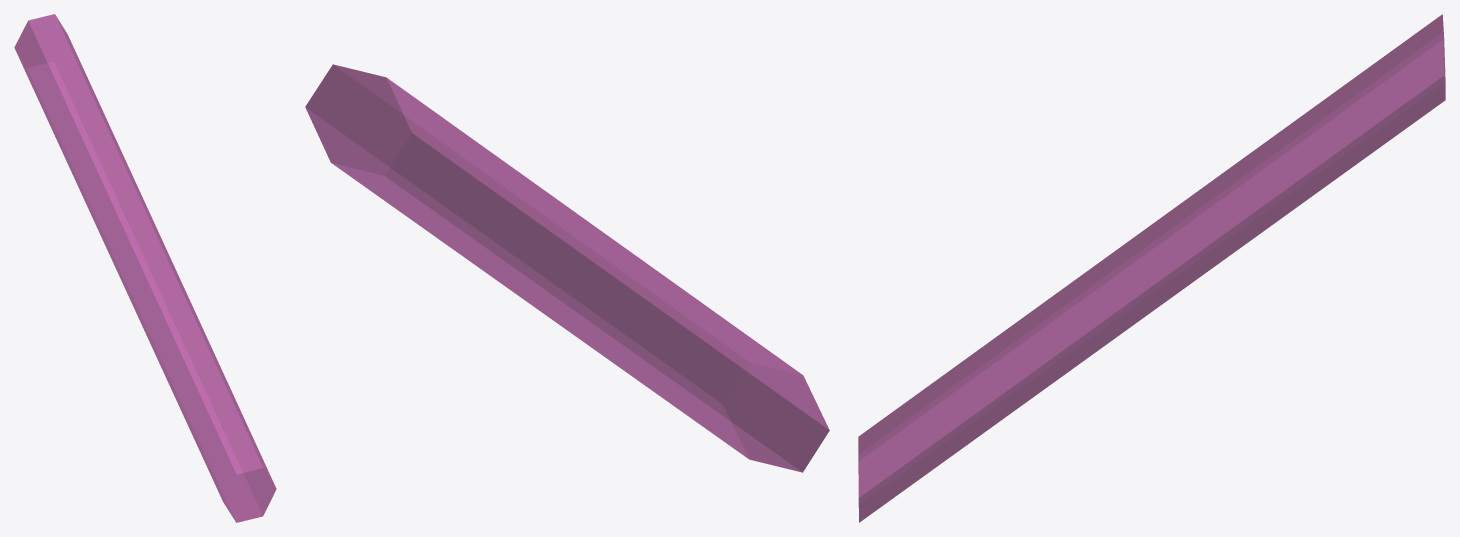
File: SM_Bld_Roof_Trim_End_01_Collision_01.fbx
3 renders of one model, left to right at view 1: azimuth 30°, elevation 25°; view 2: azimuth 150°, elevation 25°; view 3: azimuth 270°, elevation 25°, orthographic. The views are drawn at different scales.
Visible parts, largest first — view 1: SM_Bld_Roof_Trim_End_01_Collision_01; view 2: SM_Bld_Roof_Trim_End_01_Collision_01; view 3: SM_Bld_Roof_Trim_End_01_Collision_01.
Part boxes in pixels (bbox=[...]): SM_Bld_Roof_Trim_End_01_Collision_01: bbox=[14, 14, 276, 522]; SM_Bld_Roof_Trim_End_01_Collision_01: bbox=[305, 64, 829, 472]; SM_Bld_Roof_Trim_End_01_Collision_01: bbox=[858, 14, 1445, 522].
Size of the model in its own units: 38.04 by 238 by 258.
